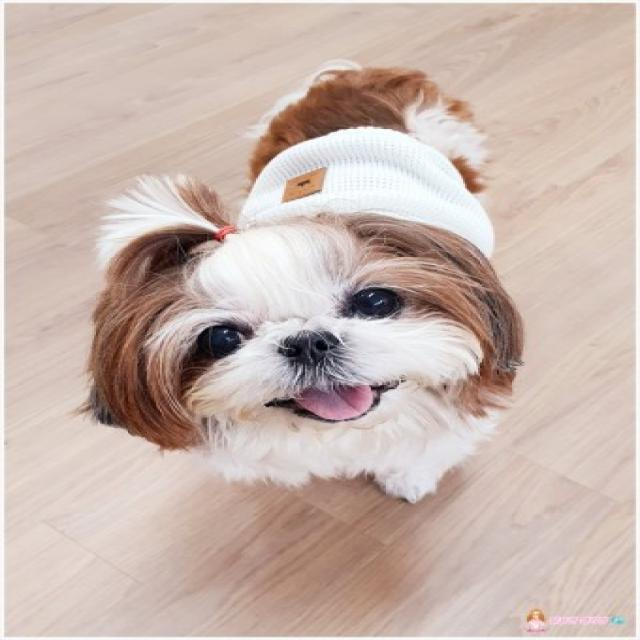cloth: (240, 128, 493, 256)
